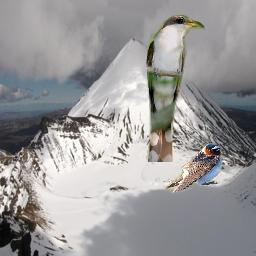Cuckoo: (145, 14, 205, 162)
Swallow: (165, 143, 223, 194)
